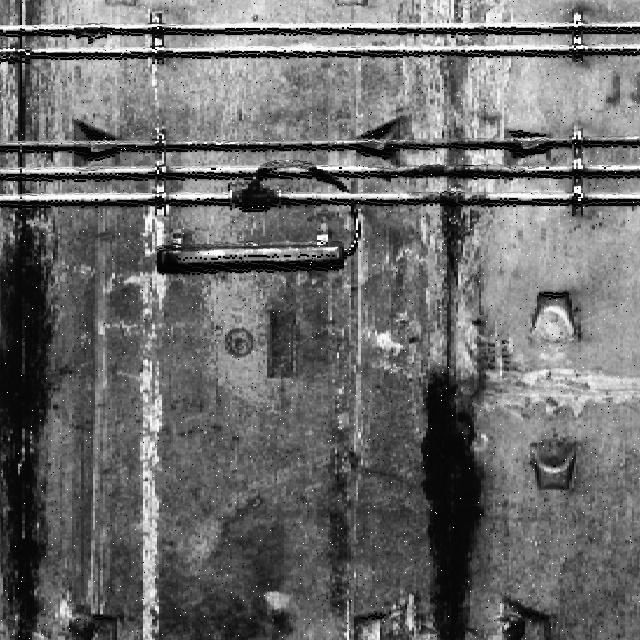leakage: (413, 5, 493, 640), (0, 1, 64, 640)
